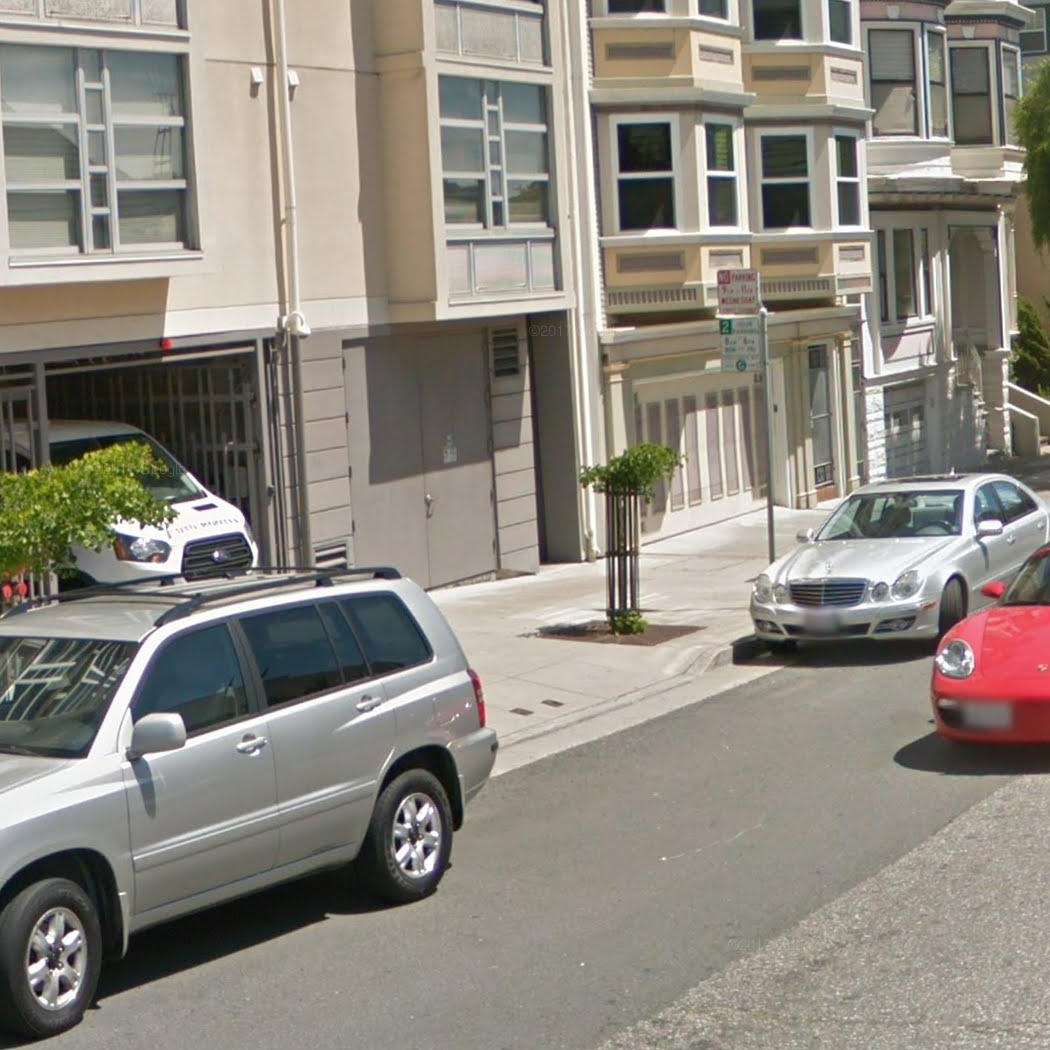2 Hour Parking: (716, 316, 767, 375)
No Parking: (715, 267, 762, 317)
